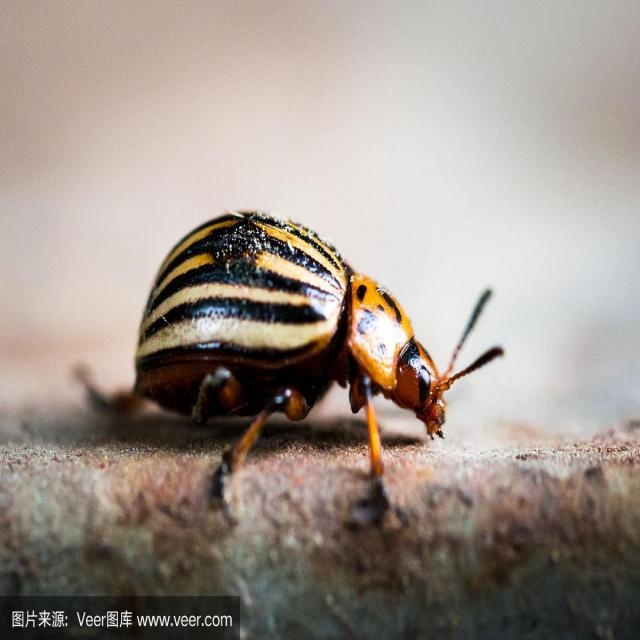ShuCaiHuaBanChong-Grown-: (123, 175, 458, 458)
